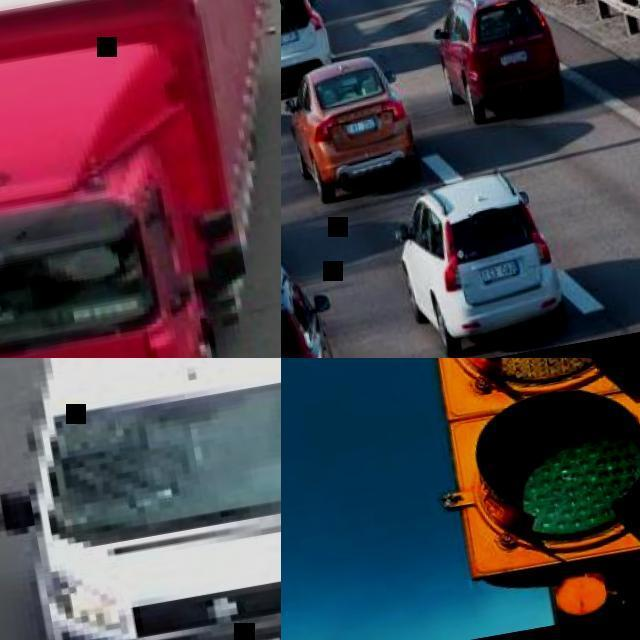car: (2, 1, 263, 334), (279, 47, 422, 352), (402, 169, 637, 352)
